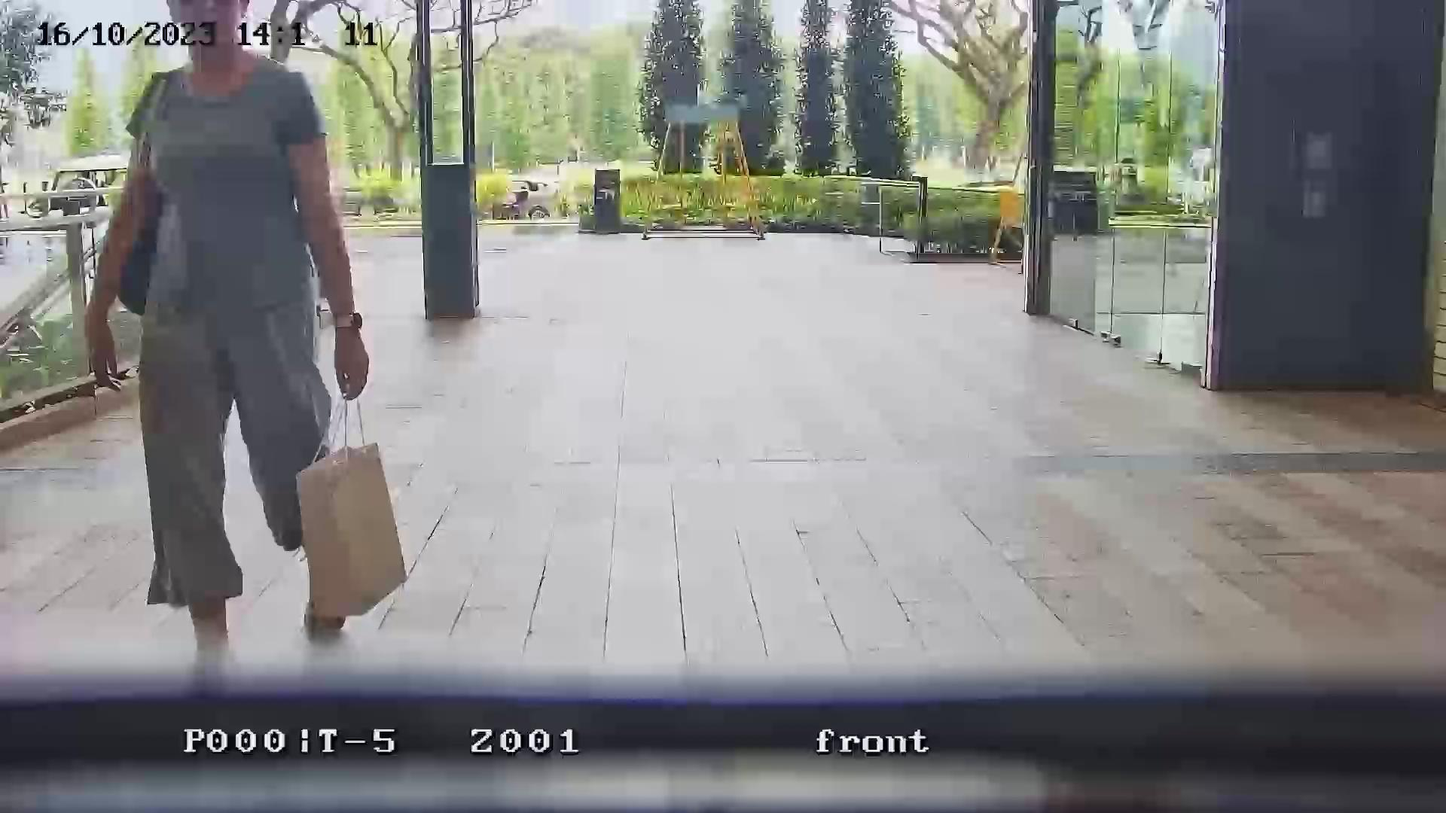person: (84, 0, 371, 652)
